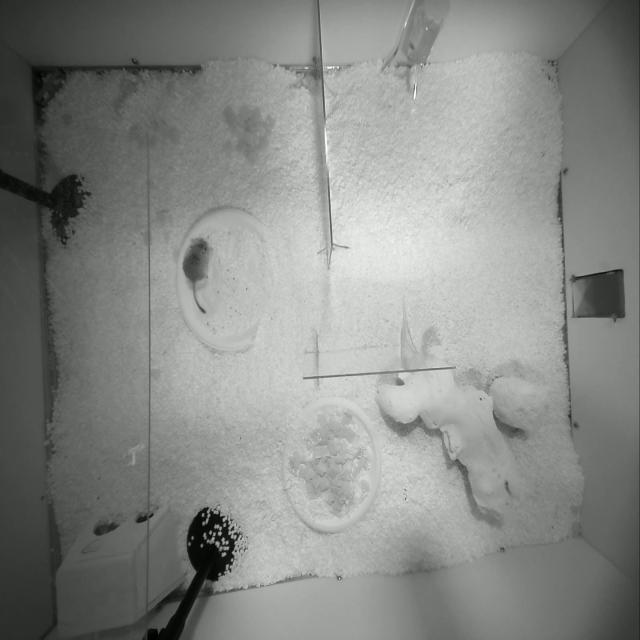pup_fluffy: (183, 238, 209, 313)
